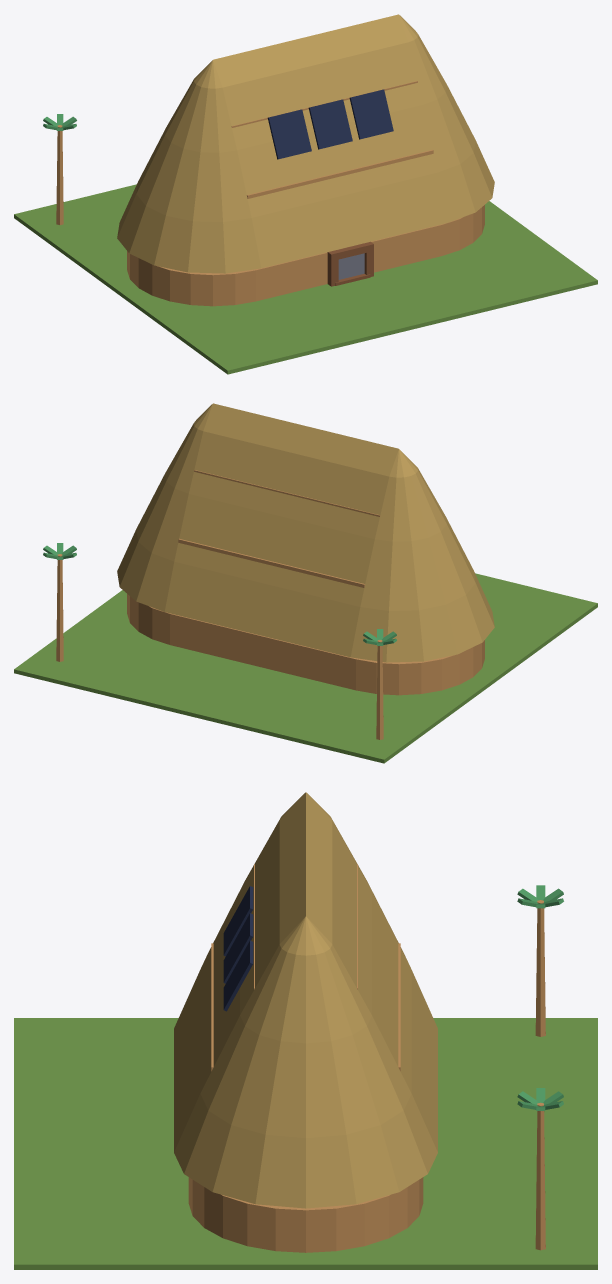
Rendered from house-2x2-2f-maloca-a-solar.glb.
3 renders of one model, top to bottom at view 1: azimuth 30°, elevation 25°; view 2: azimuth 150°, elevation 25°; view 3: azimuth 270°, elevation 25°, orthographic. The views are drawn at different scales.
Visible parts, largest first — view 1: house-2x2-2f-maloca-a-solar; view 2: house-2x2-2f-maloca-a-solar; view 3: house-2x2-2f-maloca-a-solar.
Boxes of the visible parts, box(x1,y1,x2,y2) form: house-2x2-2f-maloca-a-solar: box(14, 14, 597, 374); house-2x2-2f-maloca-a-solar: box(14, 403, 597, 763); house-2x2-2f-maloca-a-solar: box(14, 792, 597, 1269).
Size of the model in its own units: 1.99 by 1.1 by 1.99.
Materials: 1 (1 with a texture image).
